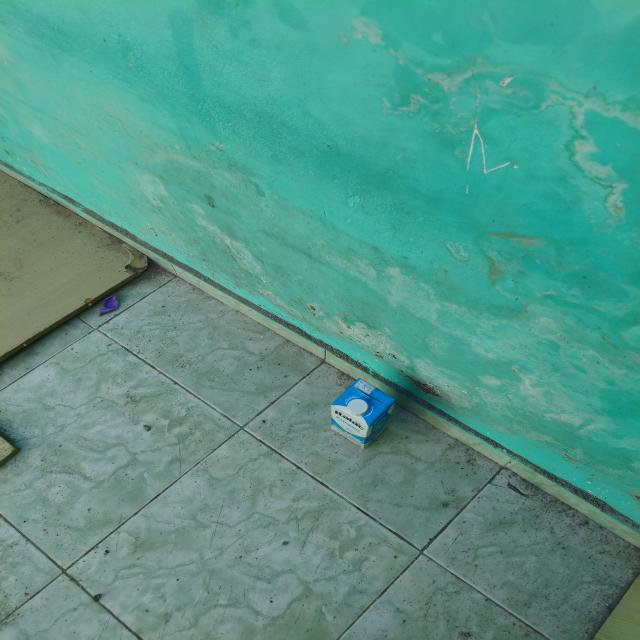Caixa de Leite: (329, 377, 396, 450)
